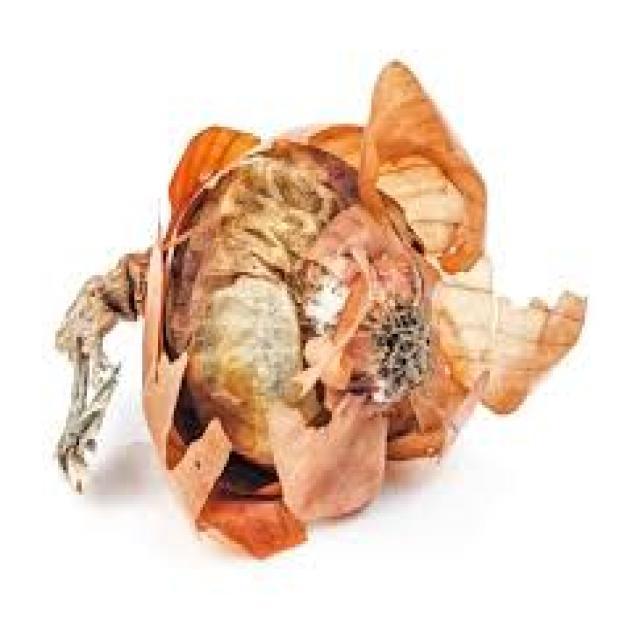Onion: (55, 59, 589, 562)
